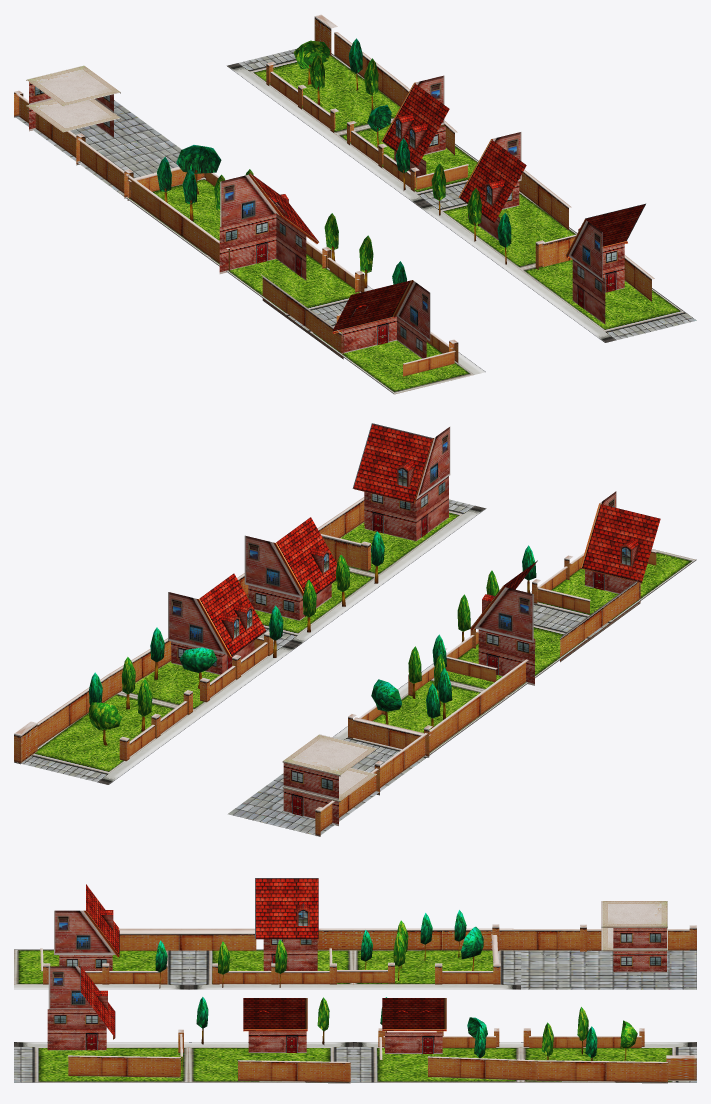
File: eu_uptown_mid3.fbx
3 views of the same model, one above another, from view 1: azimuth 30°, elevation 25°; view 2: azimuth 150°, elevation 25°; view 3: azimuth 270°, elevation 25° (orthographic). The views are drawn at different scales.
Parts seen in each view (by area): view 1: eu_uptown_mid3; view 2: eu_uptown_mid3; view 3: eu_uptown_mid3.
Part boxes in pixels (x1=…): eu_uptown_mid3: x1=14, y1=14, x2=696, y2=394; eu_uptown_mid3: x1=14, y1=423, x2=696, y2=836; eu_uptown_mid3: x1=14, y1=878, x2=696, y2=1083.
Bounding box in the file's own units: 4757 × 1540 × 10000.
